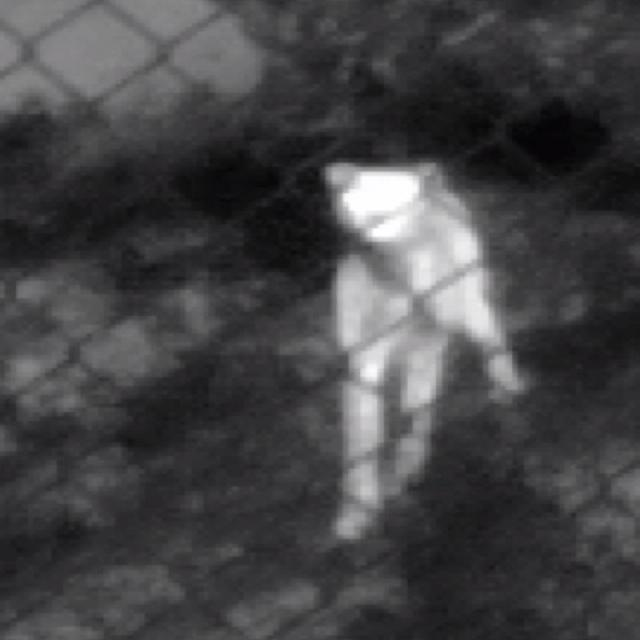cheetah: (325, 162, 523, 537)
